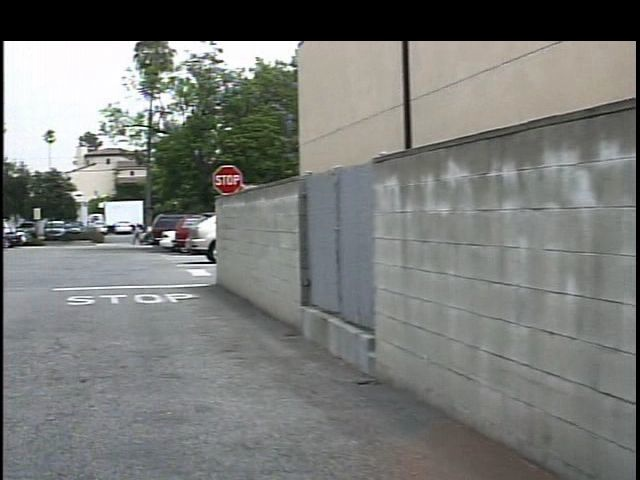person: (118, 223, 132, 249)
